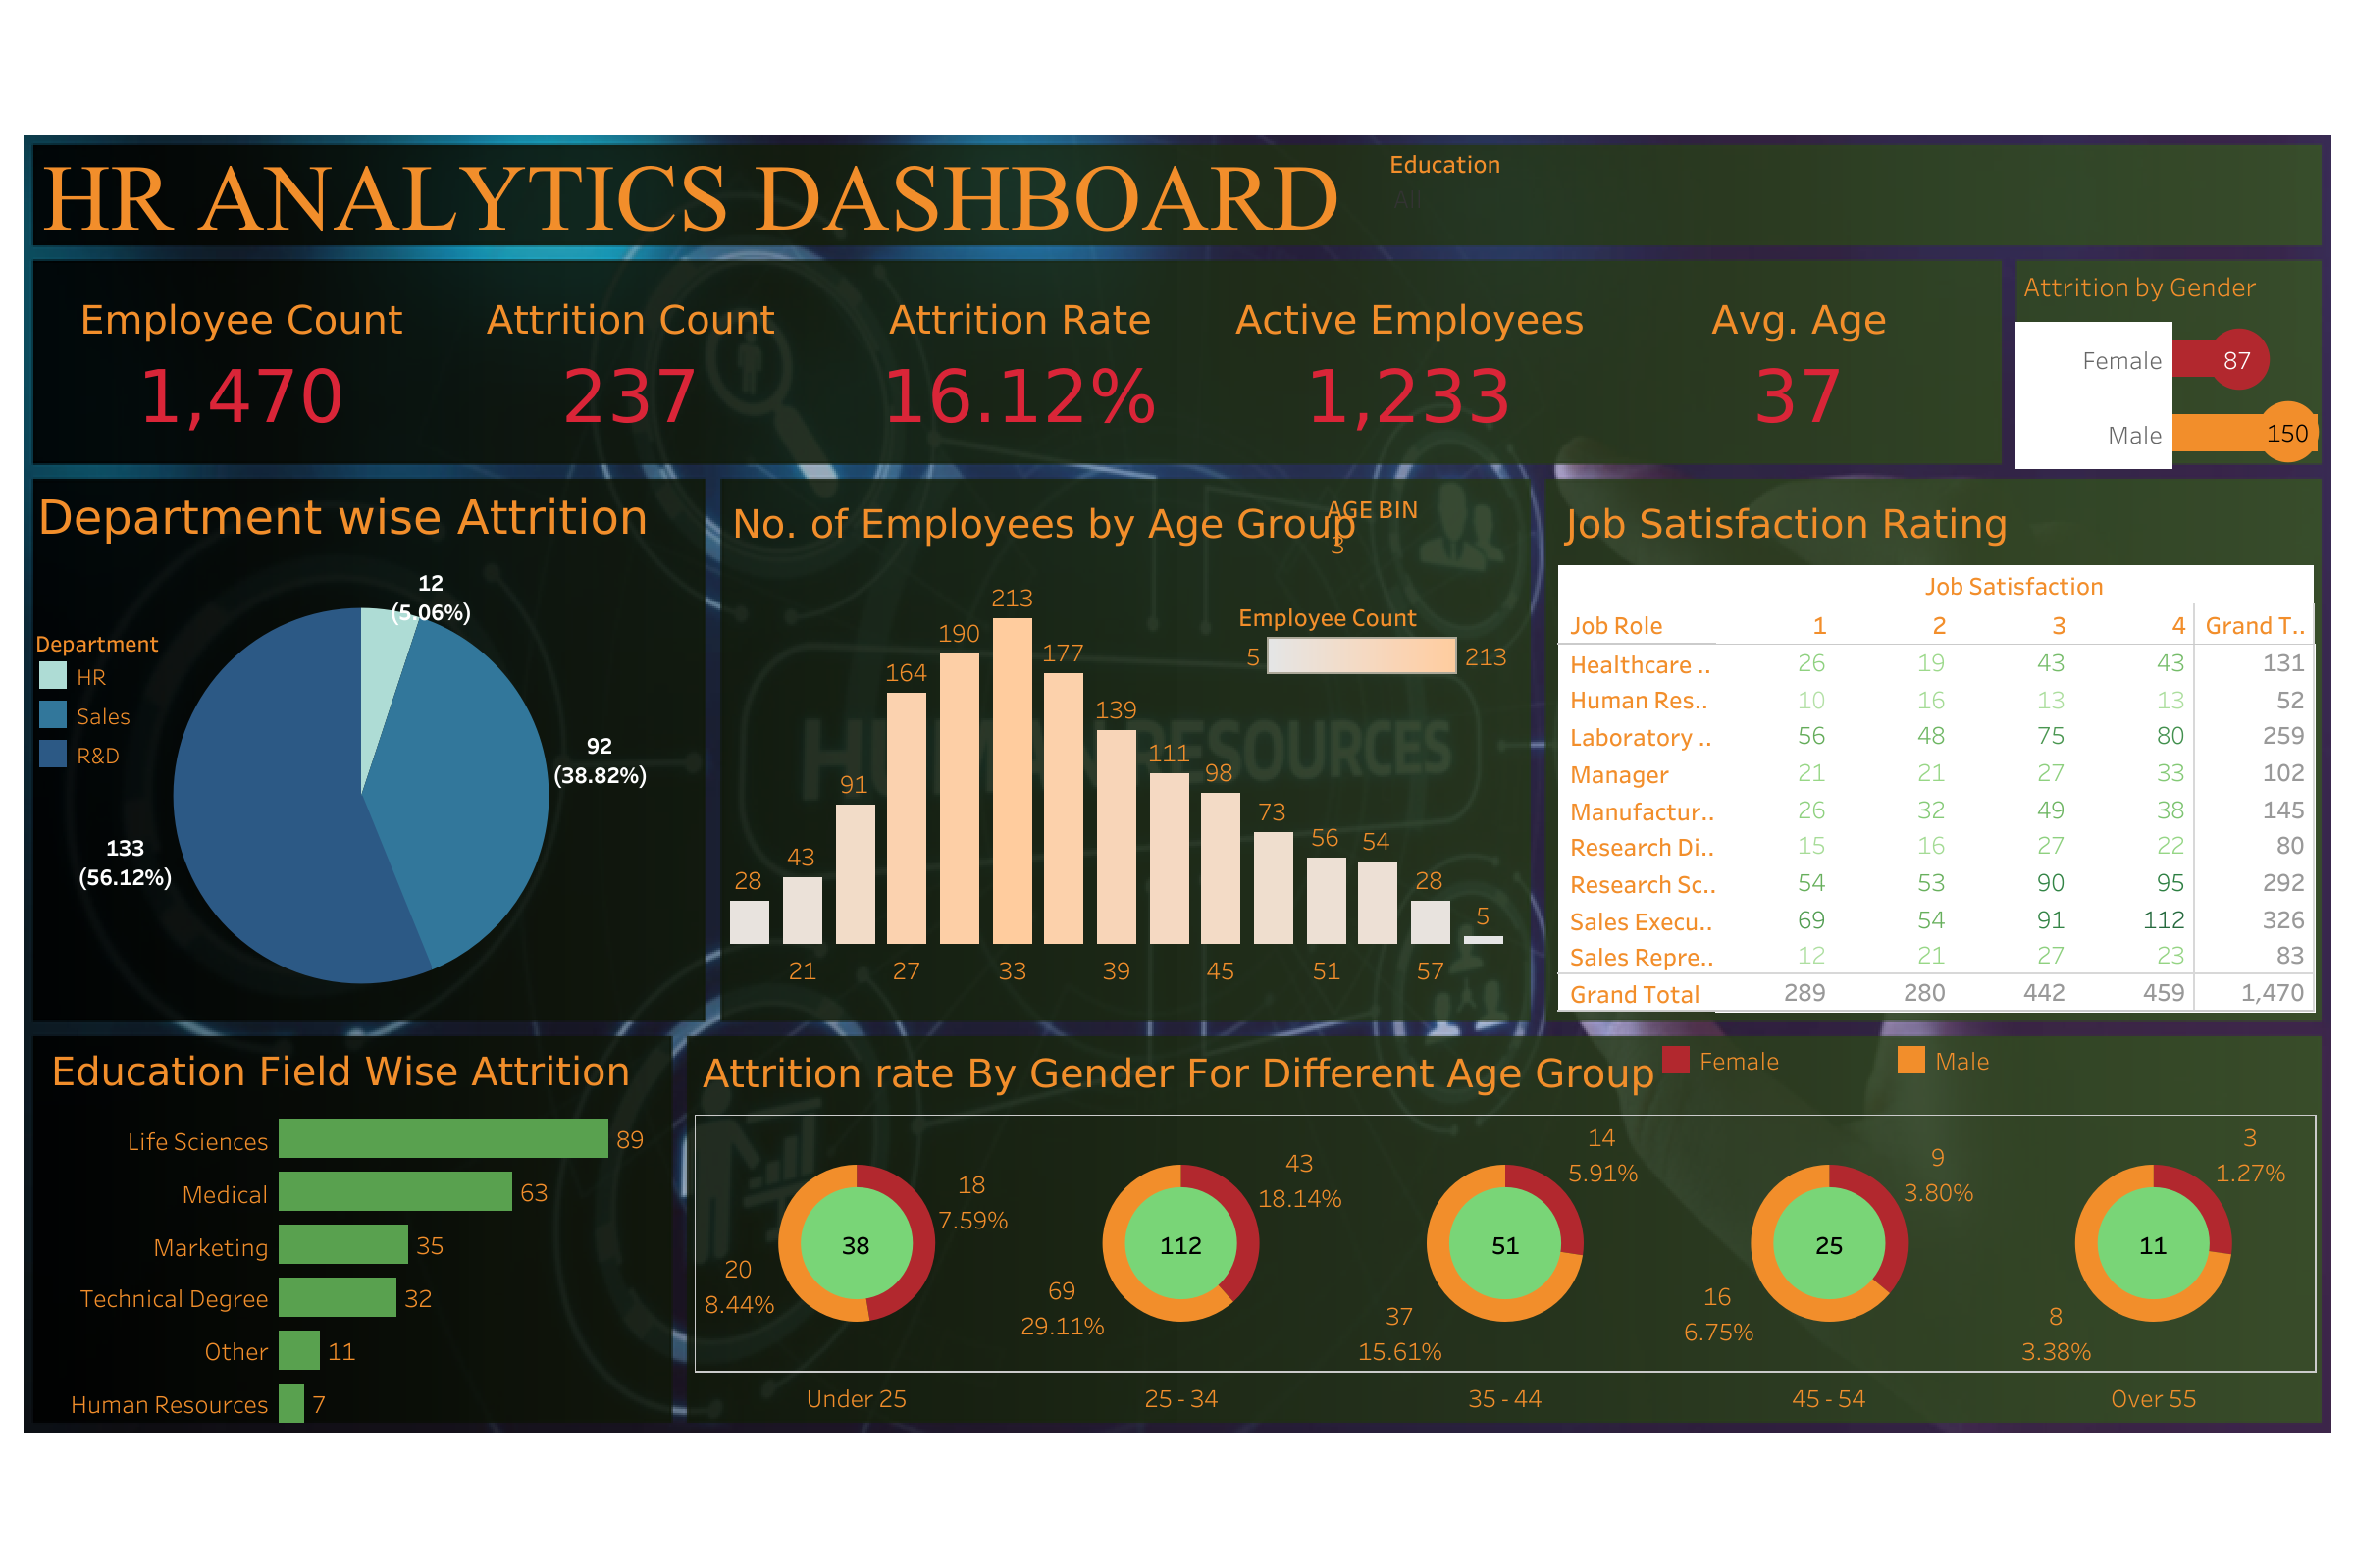

What the dashboard file says about the page in this screenshot:
{"tool":"tableau","page":{"name":"HR ANALYTICS DASHBOARD","canvas":[1200,800],"ordinal":0},"visuals":[{"type":"image","param":"/Users/pavan/Downloads/HR background-1,HR background-2,HR background-3/HR backgr","box":[8,8,1184,784]},{"type":"filter","title":"Department wise Attrition","param":"[federated.1qq5hcc12b2ui312k5l690vnaa8g].[none:Education:nk]","box":[708,73,242,47]},{"type":"text","box":[19,74,949,54]},{"type":"worksheet","title":"Attrition by Gender","mark":"Automatic","rows":["Gender"],"cols":["Calculation_3927179456274432","Calculation_3927179456274432"],"box":[1027,130,158,109]},{"type":"worksheet","title":"KPI","mark":"Automatic","box":[24,135,992,95]},{"type":"worksheet","title":"Department wise Attrition","mark":"Pie","box":[15,243,338,281]},{"type":"worksheet","title":"No of Employee By Age Group ","mark":"Automatic","rows":["Employee Count"],"cols":["Age (bin)"],"box":[369,249,400,266]},{"type":"parameter","param":"[Parameters].[Parameter 1]","box":[656,249,125,62]},{"type":"worksheet","title":"Job Statisfaction Rating","mark":"Automatic","rows":["Job Role"],"cols":["Job Satisfaction"],"box":[794,249,386,267]},{"type":"legend","title":"No of Employee By Age Group ","param":"[federated.1qq5hcc12b2ui312k5l690vnaa8g].[sum:Employee Count:qk]","box":[631,301,142,53]},{"type":"legend","title":"Department wise Attrition","param":"[federated.1qq5hcc12b2ui312k5l690vnaa8g].[none:Department:nk]","box":[17,318,101,90]},{"type":"worksheet","title":"Eduaction Field Wise Attrition","mark":"Automatic","rows":["Education Field"],"cols":["Calculation_3927179456274432"],"box":[22,528,320,200]},{"type":"worksheet","title":"Attrition rate By Gender For Different Age Group","mark":"Pie","rows":["Calculation_3927179837698055","Calculation_3927179837788169"],"cols":["CF_age band"],"box":[354,529,827,193]},{"type":"legend","title":"Attrition rate By Gender For Different Age Group","param":"[federated.1qq5hcc12b2ui312k5l690vnaa8g].[none:Gender:nk]","box":[844,530,338,37]}]}

Visuals, with their boxes in screenshot pixels (x1, y1, x2, y2), scaled from the page's 1200x800 canvas onto the 2353x1568 screenshot:
image: box(16, 16, 2337, 1552)
"Department wise Attrition" filter: box(1388, 143, 1862, 235)
text: box(37, 145, 1898, 251)
"Attrition by Gender" worksheet: box(2013, 255, 2324, 468)
"KPI" worksheet: box(47, 265, 1992, 450)
"Department wise Attrition" worksheet (Pie marks): box(29, 476, 692, 1027)
"No of Employee By Age Group " worksheet: box(723, 488, 1508, 1010)
parameter: box(1286, 488, 1532, 609)
"Job Statisfaction Rating" worksheet: box(1557, 488, 2314, 1012)
"No of Employee By Age Group " legend: box(1237, 590, 1516, 694)
"Department wise Attrition" legend: box(33, 623, 232, 800)
"Eduaction Field Wise Attrition" worksheet: box(43, 1035, 670, 1427)
"Attrition rate By Gender For Different Age Group" worksheet (Pie marks): box(694, 1037, 2316, 1415)
"Attrition rate By Gender For Different Age Group" legend: box(1655, 1039, 2318, 1112)
